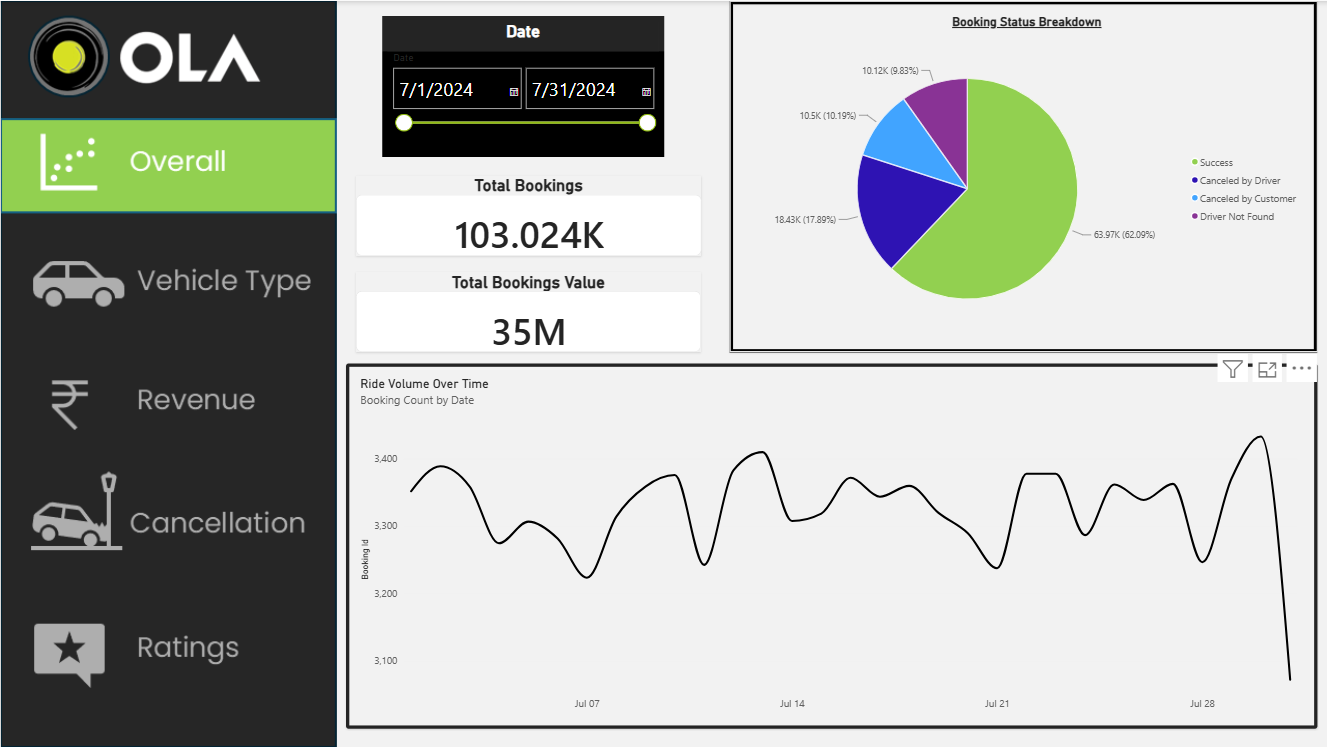

Layout of this report page (visuals, bound fields, positions):
{"tool":"powerbi","page":{"name":"Overall","canvas":[1920,1080],"ordinal":0},"visuals":[{"type":"actionButton","box":[322.1,381.8,320.3,126.7],"z":0},{"type":"actionButton","box":[0,508.5,483.2,148.4],"z":1000},{"type":"actionButton","box":[1.8,656.9,481.4,173.7],"z":2000},{"type":"actionButton","box":[1.8,856,481.4,150.2],"z":3000},{"type":"lineChart","title":"Ride Volume Over Time","fields":{"Category":["July.Date"],"Y":["CountNonNull(July.Booking_ID)"]},"box":[499.5,524.8,1406.1,528.4],"z":4000},{"type":"pieChart","title":"Booking Status Breakdown","fields":{"Category":["July.Booking_Status"],"Y":["CountNonNull(July.Booking_ID)"]},"box":[1055,0,850.5,508.5],"z":5000},{"type":"cardVisual","title":"Total Bookings Value","fields":{"Data":["Sum(July.Booking_Value)"]},"box":[513.9,392.7,499.5,115.8],"z":6000},{"type":"actionButton","box":[0,331.2,483.2,133.9],"z":7000},{"type":"slicer","title":"Date","fields":{"Values":["July.Date"]},"box":[552,22,408,204],"z":8000},{"type":"cardVisual","title":"Total Bookings","fields":{"Data":["CountNonNull(July.Booking_ID)"]},"box":[514,254,500,116],"z":9000}]}

Visuals, with their boxes in screenshot pixels (x1, y1, x2, y2), scaled from the page's 1920x1080 canvas onto the 1327x747 screenshot:
actionButton: 223, 264, 444, 352
actionButton: 0, 352, 334, 454
actionButton: 1, 454, 334, 574
actionButton: 1, 592, 334, 696
"Ride Volume Over Time" lineChart: 345, 363, 1317, 728
"Booking Status Breakdown" pieChart: 729, 0, 1317, 352
"Total Bookings Value" cardVisual: 355, 272, 700, 352
actionButton: 0, 229, 334, 322
"Date" slicer: 382, 15, 664, 156
"Total Bookings" cardVisual: 355, 176, 701, 256
